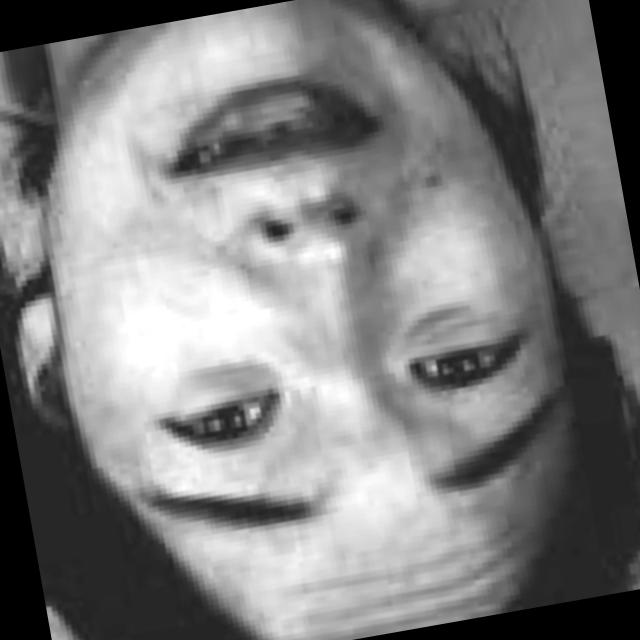fear: (0, 0, 614, 626)
